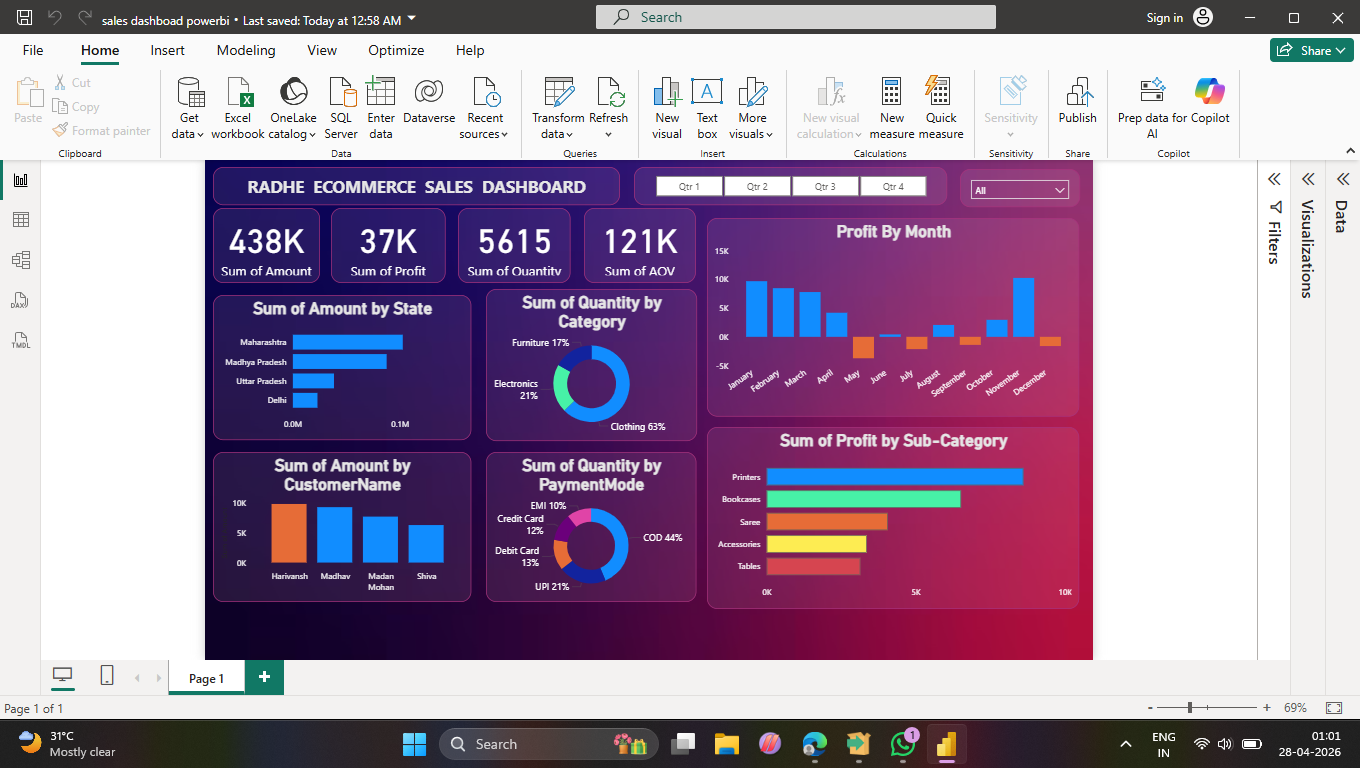

What the dashboard file says about the page in this screenshot:
{"tool":"powerbi","page":{"name":"Page 1","canvas":[1280,720],"ordinal":0},"visuals":[{"type":"textbox","box":[10.8,9.5,586.5,55.4],"z":0},{"type":"columnChart","title":"Profit By Month","fields":{"Y":["Sum(Details.Profit)"],"Category":["Orders.Order Date.Variation.Date Hierarchy.Month"]},"box":[723,83.8,536.5,286.5],"z":1000},{"type":"barChart","fields":{"Category":["Details.Sub-Category"],"Y":["Sum(Details.Profit)"]},"box":[723,385.1,536.5,262.2],"z":2000},{"type":"donutChart","fields":{"Category":["Details.Category"],"Y":["Sum(Details.Quantity)"]},"box":[404.1,185.1,304.1,218.9],"z":3000},{"type":"donutChart","fields":{"Y":["Sum(Details.Quantity)"],"Category":["Details.PaymentMode"]},"box":[404.1,420.3,302.7,216.2],"z":4000},{"type":"card","fields":{"Values":["Sum(Details.Amount)"]},"box":[10.8,68.9,154.1,108.1],"z":4001},{"type":"card","fields":{"Values":["Sum(Details.Quantity)"]},"box":[364.9,68.9,162.2,108.1],"z":4002},{"type":"card","fields":{"Values":["Sum(Details.Profit)"]},"box":[181.1,68.9,164.9,108.1],"z":4003},{"type":"barChart","fields":{"Y":["Sum(Details.Amount)"],"Category":["Orders.State"]},"box":[10.8,194.6,371.6,209.5],"z":4005},{"type":"columnChart","fields":{"Category":["Orders.CustomerName"],"Y":["Sum(Details.Amount)"]},"box":[10.8,420.3,371.6,216.2],"z":4006},{"type":"slicer","fields":{"Values":["Orders.Order Date.Variation.Date Hierarchy.Quarter"]},"box":[617.6,9.5,451.4,55.4],"z":4007},{"type":"slicer","fields":{"Values":["Orders.State"]},"box":[1086.5,13.5,173,55.4],"z":4008},{"type":"card","fields":{"Values":["Sum(Details.AOV)"]},"box":[545.9,68.9,160.8,108.1],"z":4009}]}

Visuals, with their boxes on the page's 1280x720 design canvas (x1, y1, x2, y2). These are canvas units, not pixel positions in the 1360x768 screenshot, which may show the page scaled, cropped or inside an application window:
textbox: bbox(11, 10, 597, 65)
"Profit By Month" columnChart: bbox(723, 84, 1260, 370)
barChart - Details.Sub-Category x Sum(Details.Profit): bbox(723, 385, 1260, 647)
donutChart - Details.Category x Sum(Details.Quantity): bbox(404, 185, 708, 404)
donutChart - Sum(Details.Quantity) x Details.PaymentMode: bbox(404, 420, 707, 636)
card - Sum(Details.Amount): bbox(11, 69, 165, 177)
card - Sum(Details.Quantity): bbox(365, 69, 527, 177)
card - Sum(Details.Profit): bbox(181, 69, 346, 177)
barChart - Sum(Details.Amount) x Orders.State: bbox(11, 195, 382, 404)
columnChart - Orders.CustomerName x Sum(Details.Amount): bbox(11, 420, 382, 636)
slicer - Orders.Order Date.Variation.Date Hierarchy.Quarter: bbox(618, 10, 1069, 65)
slicer - Orders.State: bbox(1086, 14, 1260, 69)
card - Sum(Details.AOV): bbox(546, 69, 707, 177)
